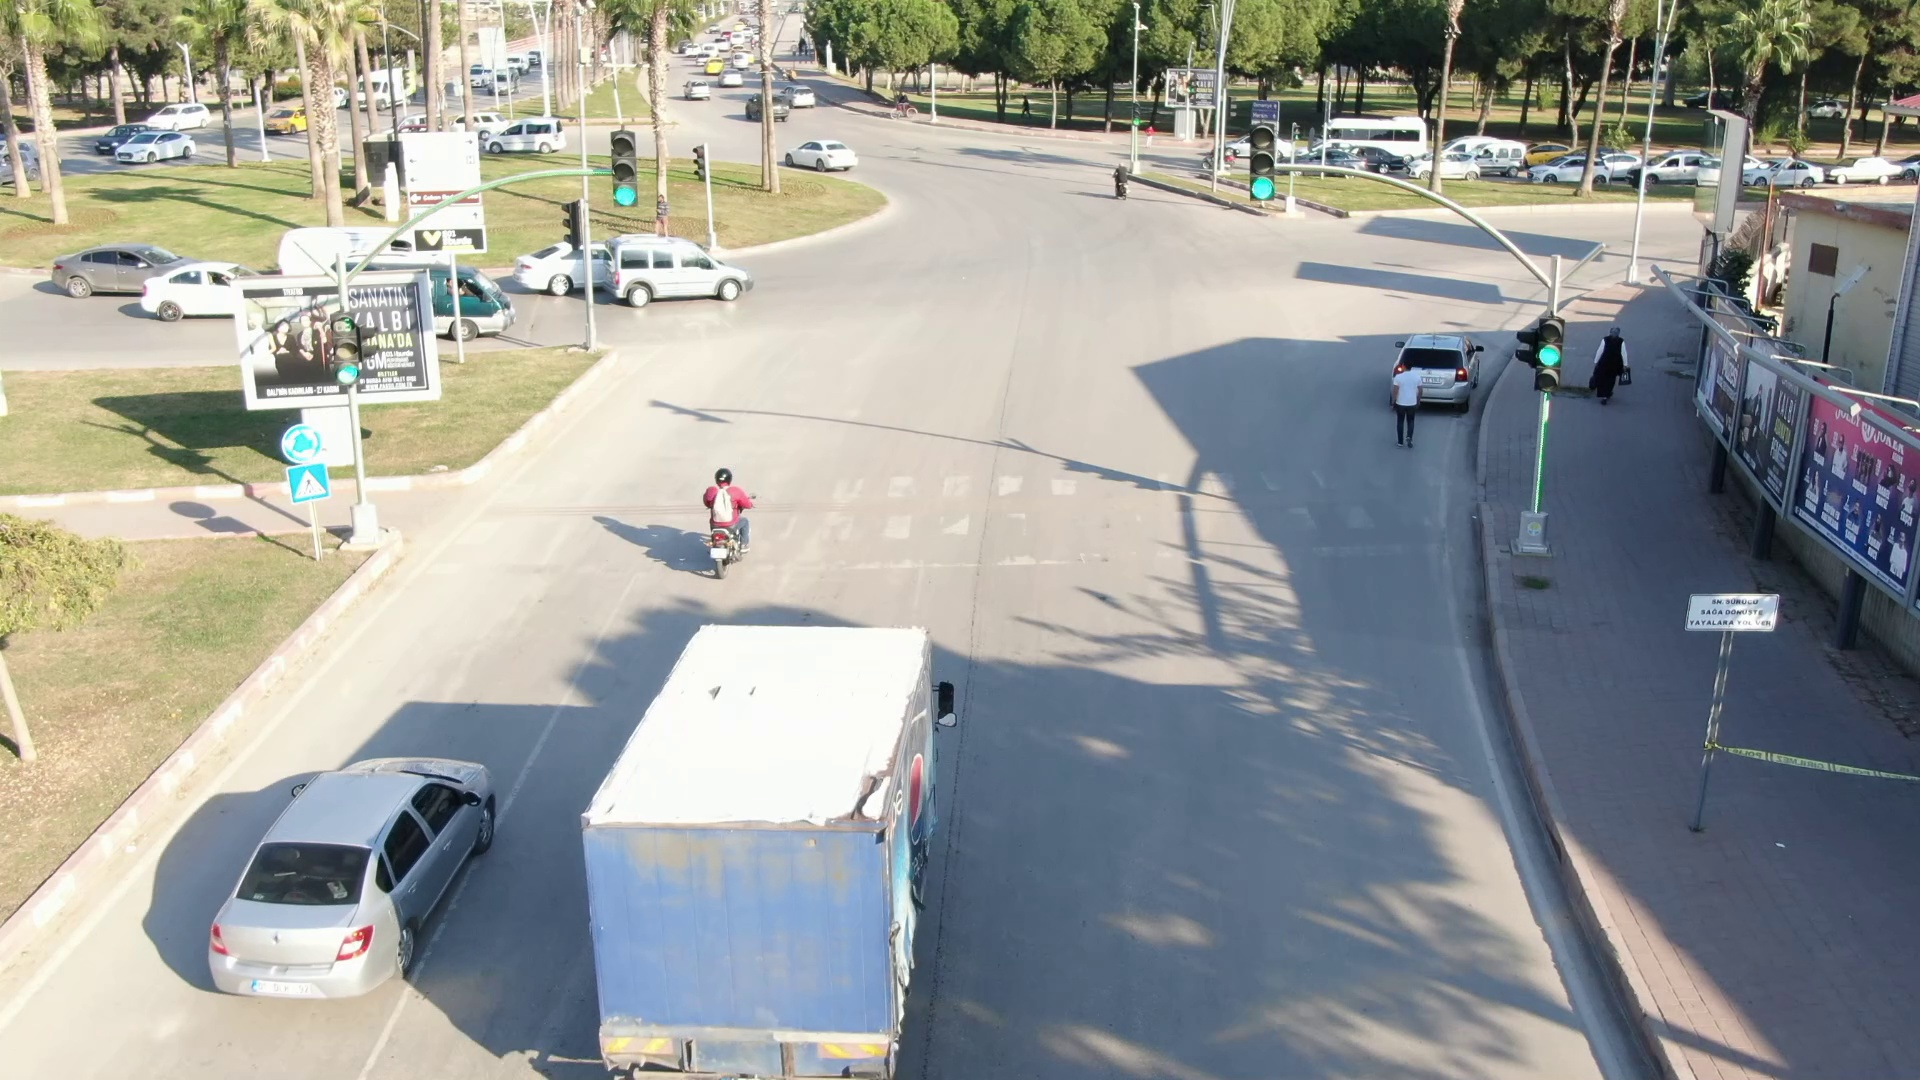car: (184, 717, 517, 1023), (597, 229, 762, 313), (44, 231, 211, 310), (781, 127, 865, 177), (109, 126, 209, 168), (480, 114, 576, 154), (676, 74, 716, 105)
person: (687, 454, 773, 563), (1382, 354, 1441, 456), (1587, 315, 1645, 413)
